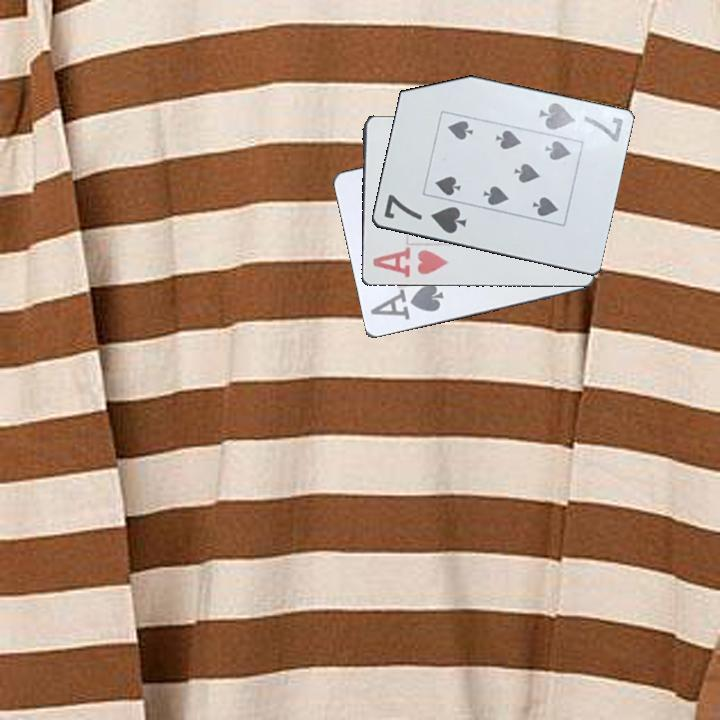7s: (535, 99, 626, 145), (380, 191, 470, 237)
Ah: (369, 244, 451, 281)
As: (367, 281, 446, 323)
